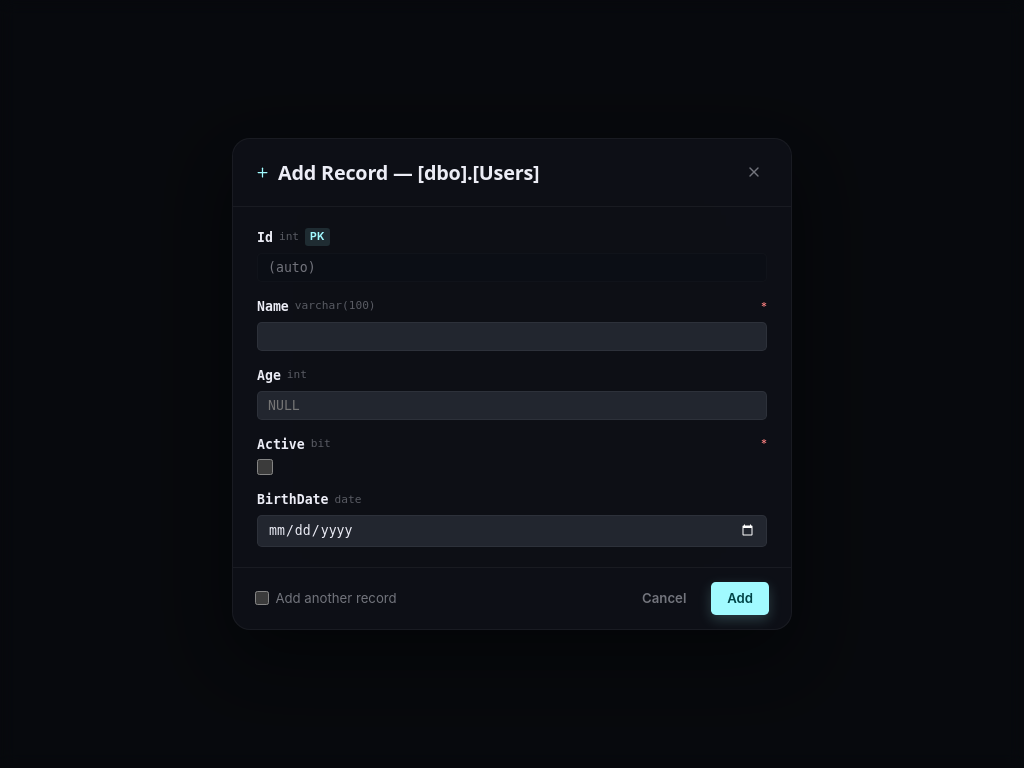
Test case: RecordDialog – add mode › shows error message when executeQuery returns error status
Expected: the text "Name" is shown, [257,296,289,317]
Type "Alice" into the field with id "rdf-Name" at (512, 336), box [257,322,767,351]
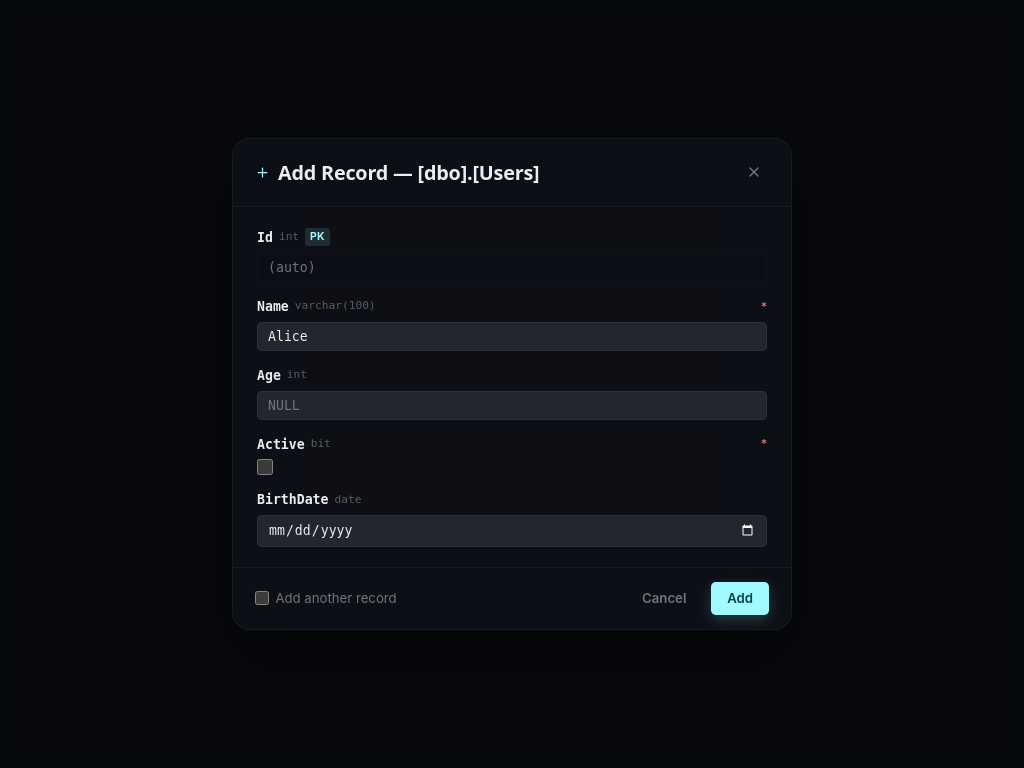
Click the button "Add" at (740, 598), box [711,582,769,615]
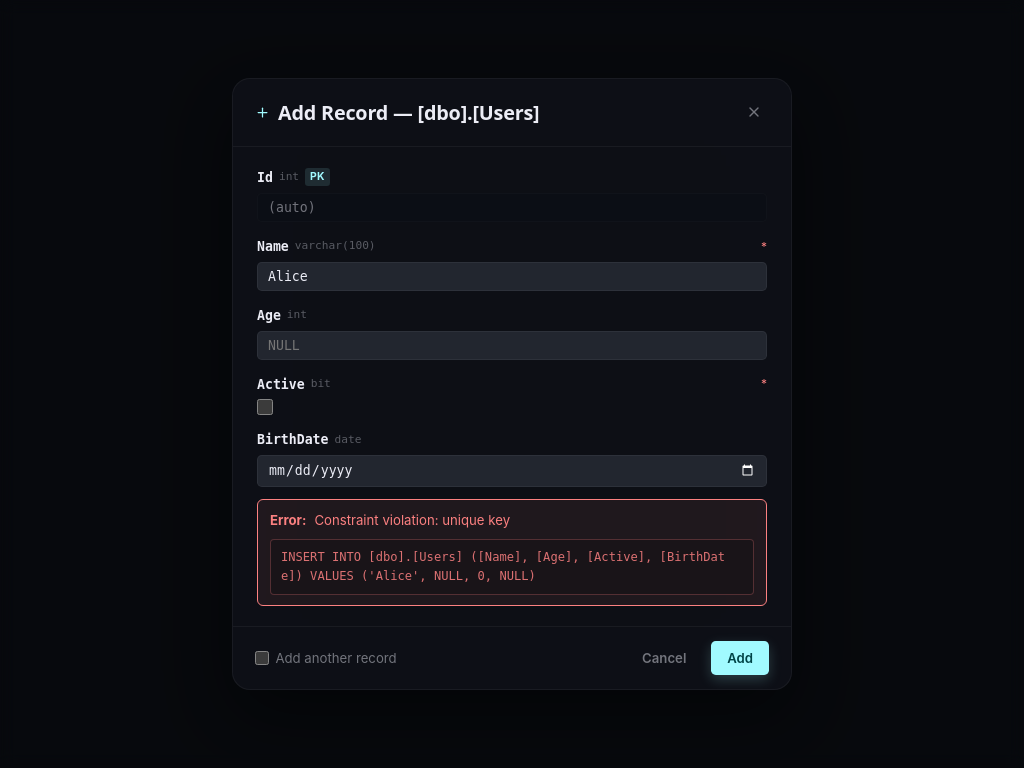
Now the text "Constraint violation: unique key" is shown, box [314,510,510,531]
